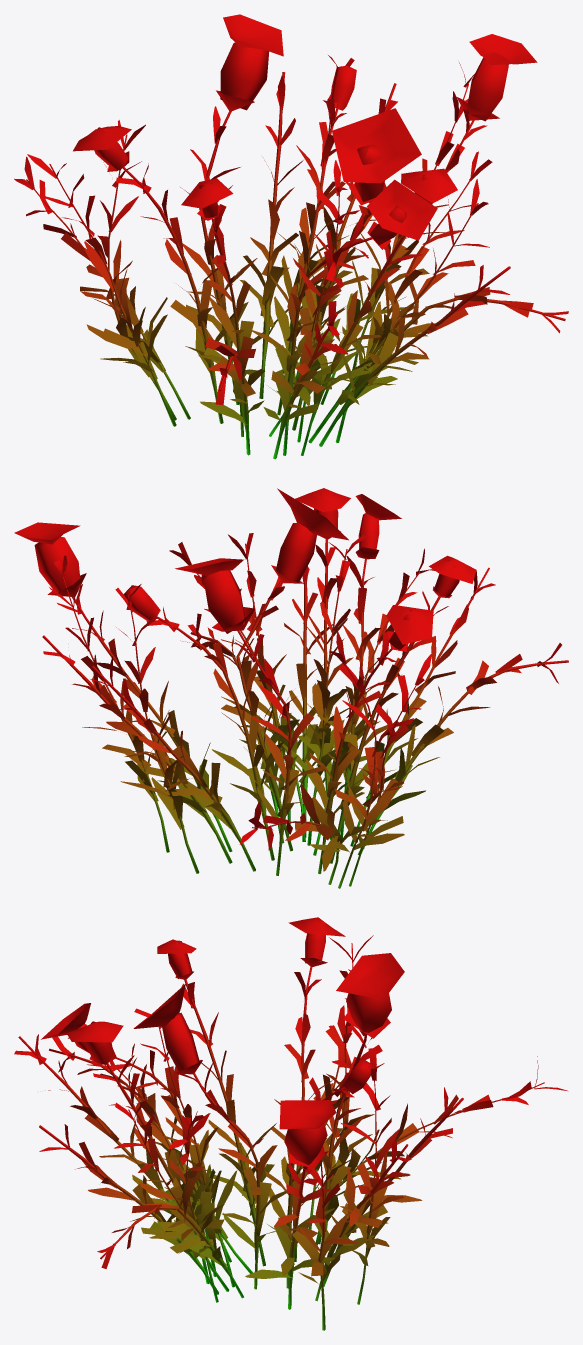
The model's file is Var7_LOD2.fbx.
The picture shows the model from 3 angles, top to bottom: view 1: azimuth 30°, elevation 25°; view 2: azimuth 150°, elevation 25°; view 3: azimuth 270°, elevation 25°; orthographic projection. The views are drawn at different scales.
Parts seen in each view (by area): view 1: _xo16_Var7_LOD2; view 2: _xo16_Var7_LOD2; view 3: _xo16_Var7_LOD2.
Boxes of the visible parts, x1=… form: _xo16_Var7_LOD2: x1=14, y1=14, x2=568, y2=459; _xo16_Var7_LOD2: x1=14, y1=488, x2=568, y2=888; _xo16_Var7_LOD2: x1=14, y1=917, x2=568, y2=1330.
Bounding box in the file's own units: 36.88 × 27.5 × 40.76.
